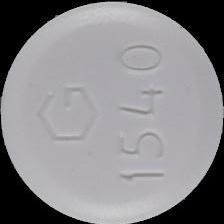69189-1540: (0, 0, 224, 224)
